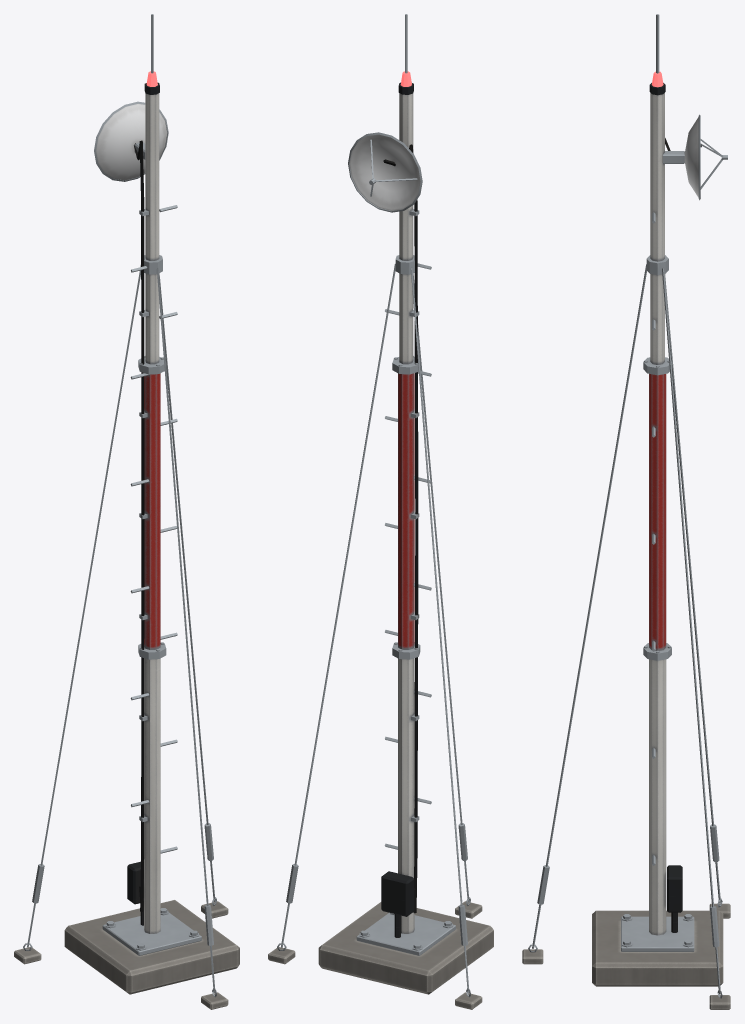
The model's file is antena_comunicaciones.fbx.
3 renders of one model, left to right at view 1: azimuth 30°, elevation 25°; view 2: azimuth 150°, elevation 25°; view 3: azimuth 270°, elevation 25°, orthographic.
Visible parts, largest first — view 1: antena_comunicaciones; view 2: antena_comunicaciones; view 3: antena_comunicaciones.
Part boxes in pixels (x1,y1,x2,y2): antena_comunicaciones: (14,14,239,1009); antena_comunicaciones: (268,14,493,1009); antena_comunicaciones: (522,14,730,1009).
Bounding box in the file's own units: 1.81 × 7.95 × 1.59.
Materials: 2 (1 with a texture image).
